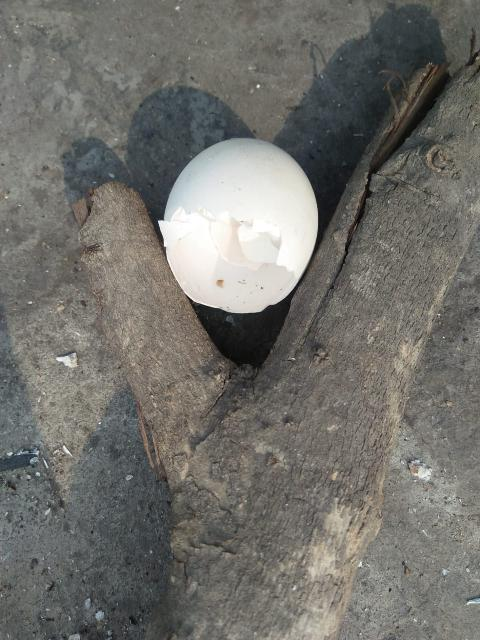Roto: (157, 136, 319, 314)
